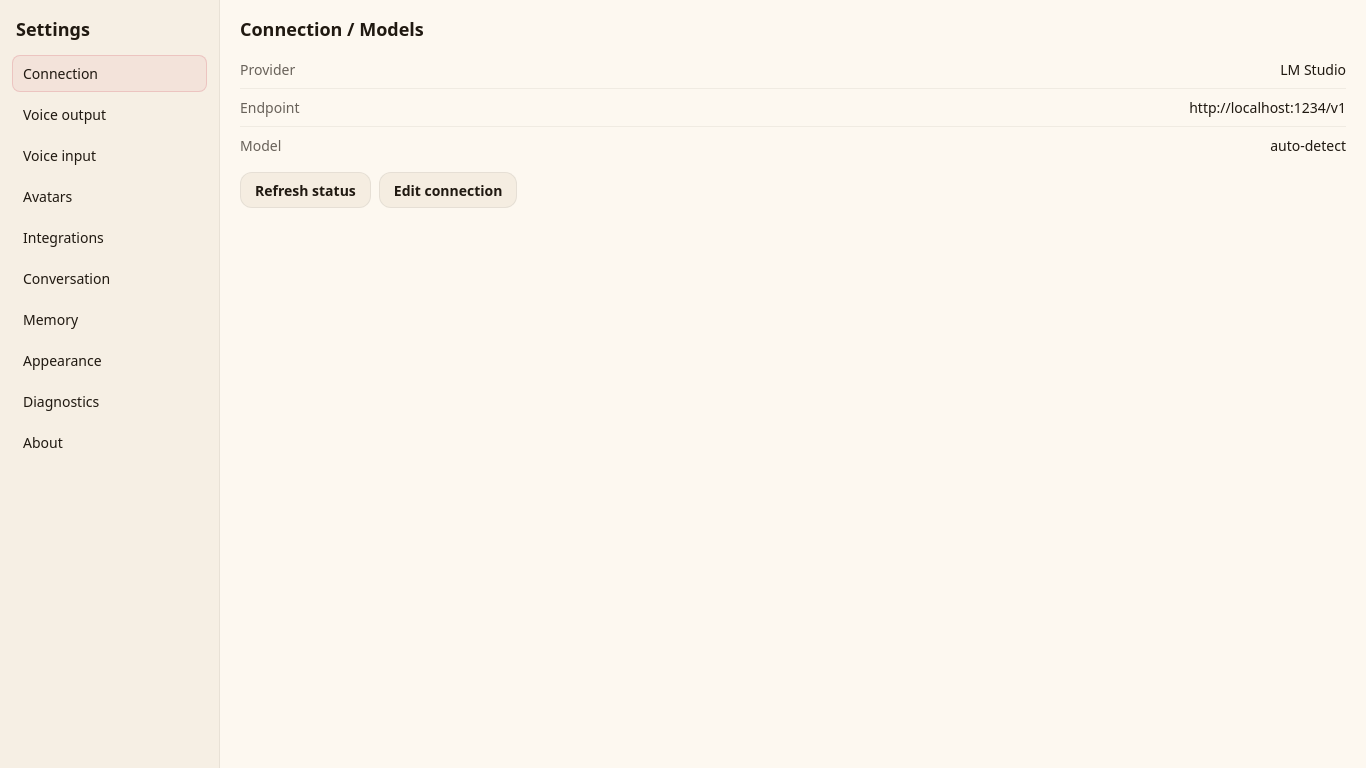
Settings TTS section › renders sidebar categories with Connection as the default panel
Expected: the button "Voice input" is shown, [12,137,207,174]
Expected: the button "Avatars" is shown, [12,178,207,215]
Click the button "Voice output": (110, 114) [12,96,207,133]
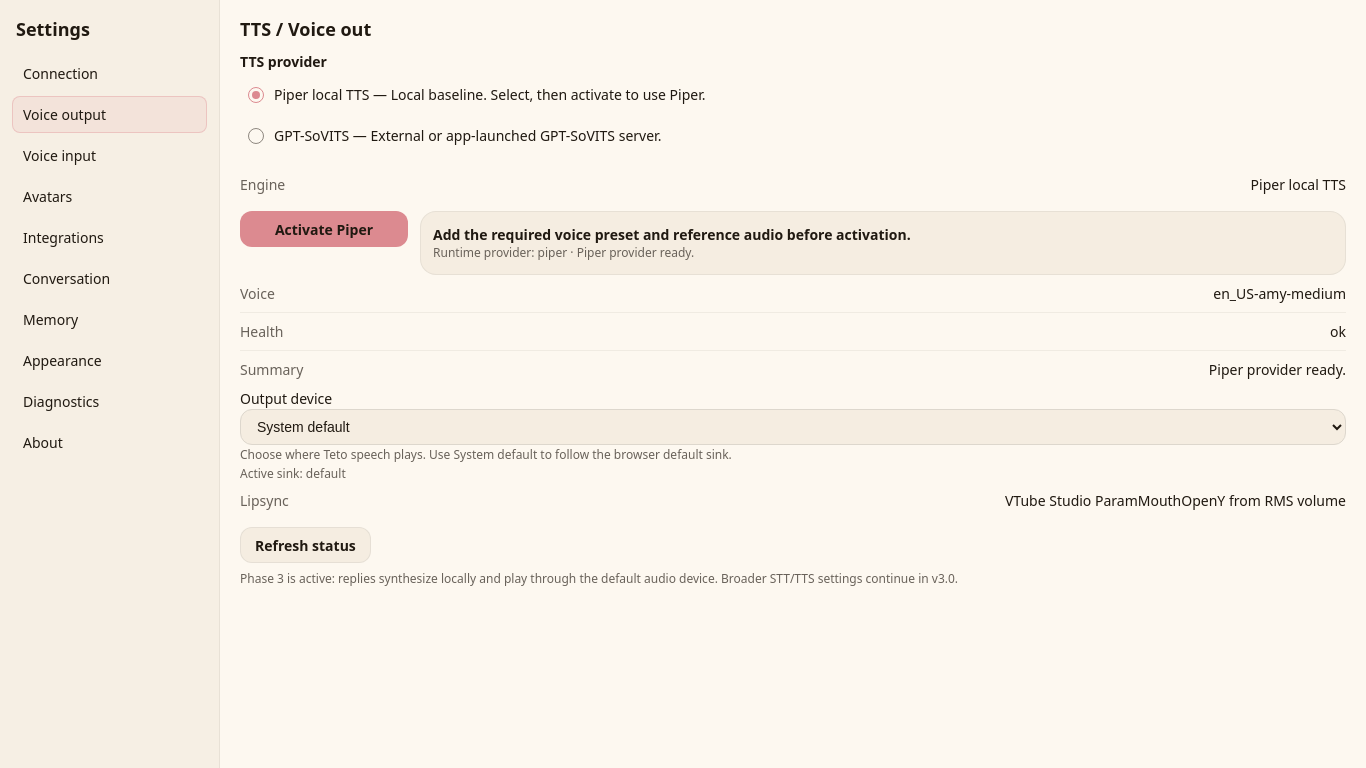
Expected: the heading "TTS / Voice out" is shown, [240,17,371,41]
Expected: the text "Piper local TTS" is shown, [1250,174,1346,195]
Expected: the dropdown labelled "Output device" shows "System default", [240,409,1346,445]
